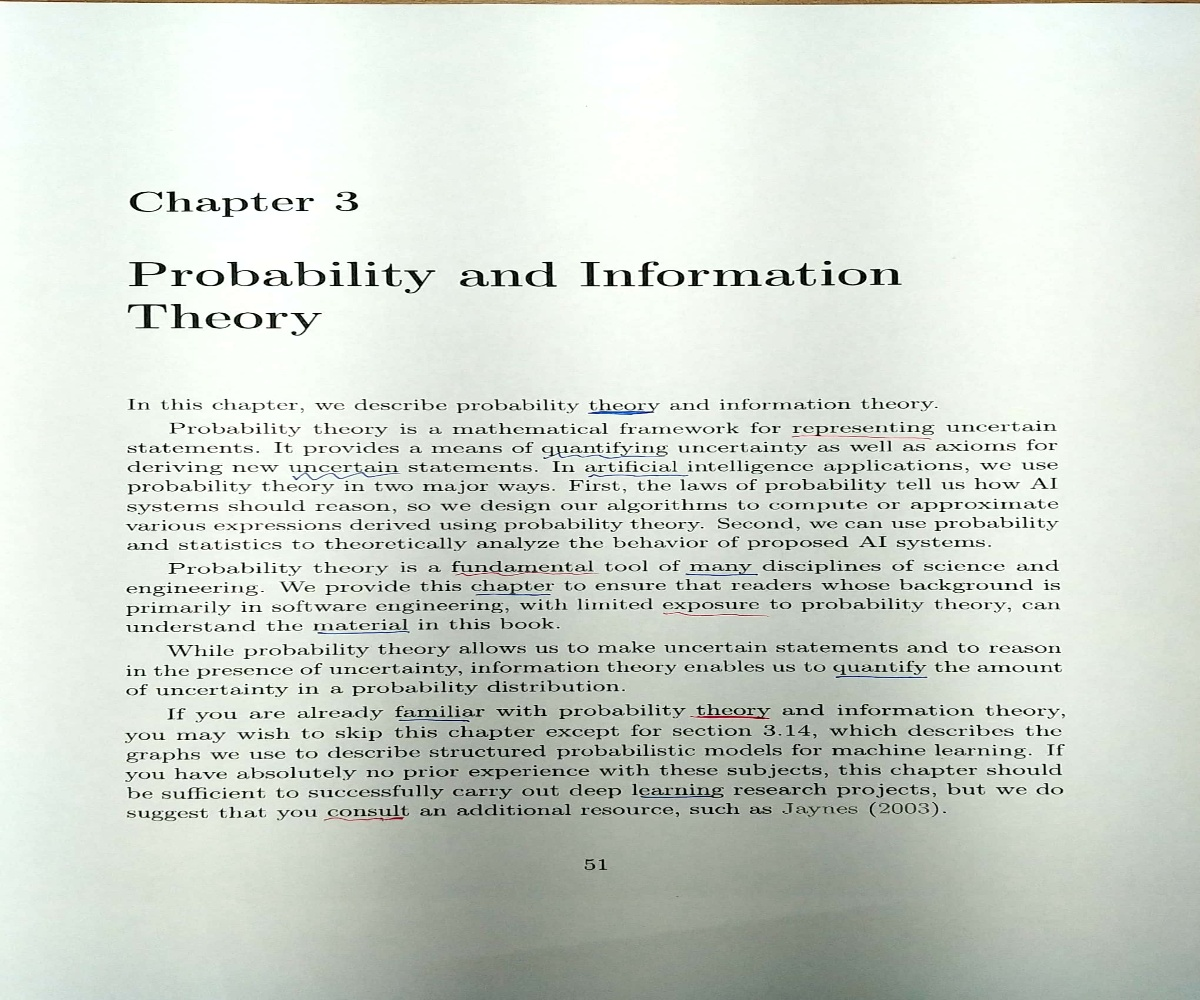underline: (288, 470, 401, 483), (791, 432, 935, 442), (452, 570, 600, 579), (832, 670, 929, 683), (658, 610, 773, 620), (542, 452, 668, 461), (689, 711, 771, 723), (588, 470, 692, 479), (396, 715, 472, 727), (312, 628, 411, 637), (635, 792, 725, 801), (684, 569, 762, 579), (585, 407, 656, 417), (475, 591, 550, 599), (322, 817, 405, 824)
